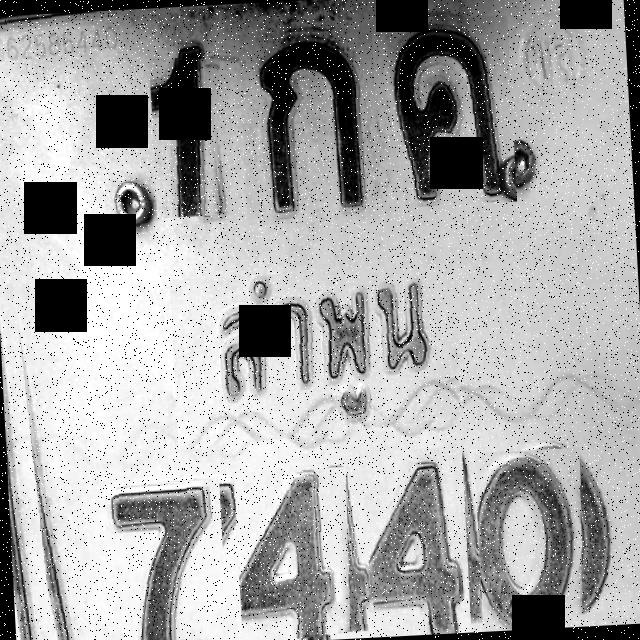letters: (238, 28, 382, 226), (383, 12, 517, 208), (84, 479, 228, 640), (359, 447, 472, 638), (474, 448, 590, 632), (234, 466, 355, 640), (150, 55, 228, 218)
license-plate: (0, 0, 640, 640)
province: (170, 264, 469, 452)
